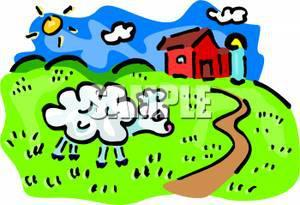sheep: (40, 83, 181, 170)
